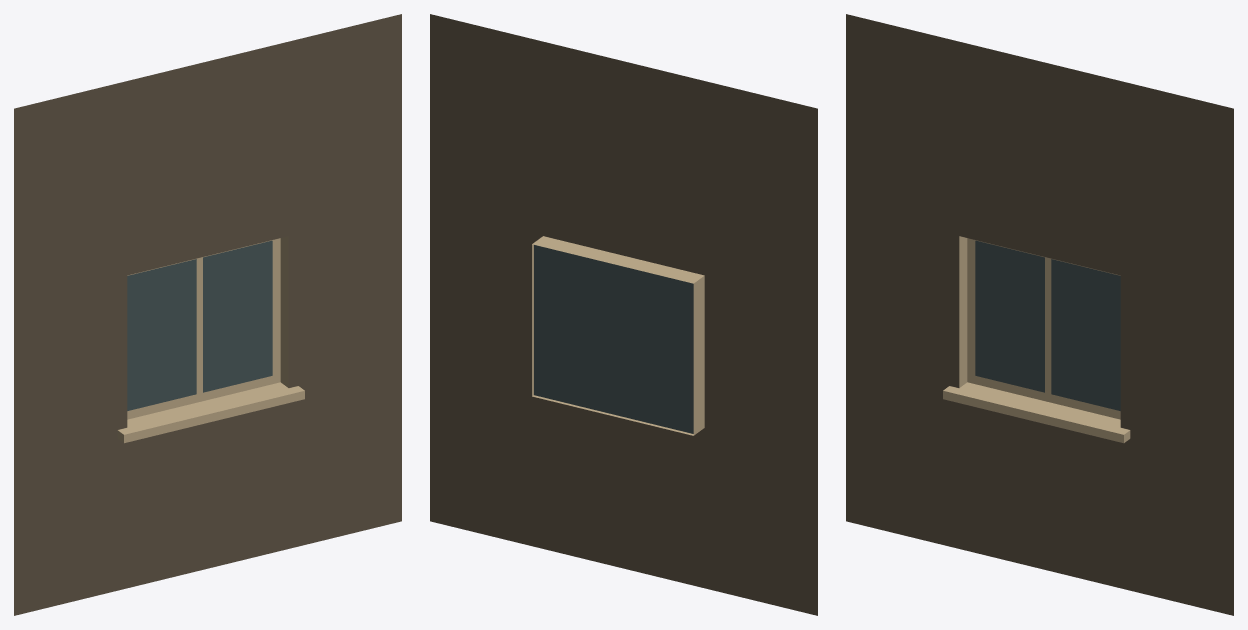
Rendered from top-w1.fbx.
3 views of the same model, side by side, from view 1: azimuth 30°, elevation 25°; view 2: azimuth 150°, elevation 25°; view 3: azimuth 330°, elevation 25° (orthographic).
Parts seen in each view (by area): view 1: a2015/400/top-w1; view 2: a2015/400/top-w1; view 3: a2015/400/top-w1.
Part boxes in pixels (box(x1,y1,x2,y2)): a2015/400/top-w1: box(14, 14, 401, 615); a2015/400/top-w1: box(430, 14, 817, 615); a2015/400/top-w1: box(846, 14, 1233, 615).
Bounding box in the file's own units: 2.4 × 3 × 0.19.
